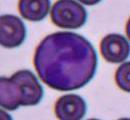E: (33, 30, 97, 90)
